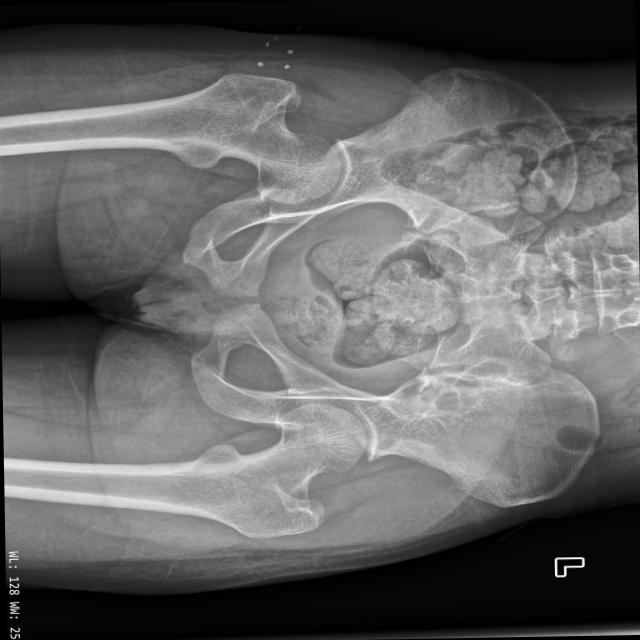normal-left: (67, 403, 365, 538)
normal-right: (73, 73, 340, 204)
